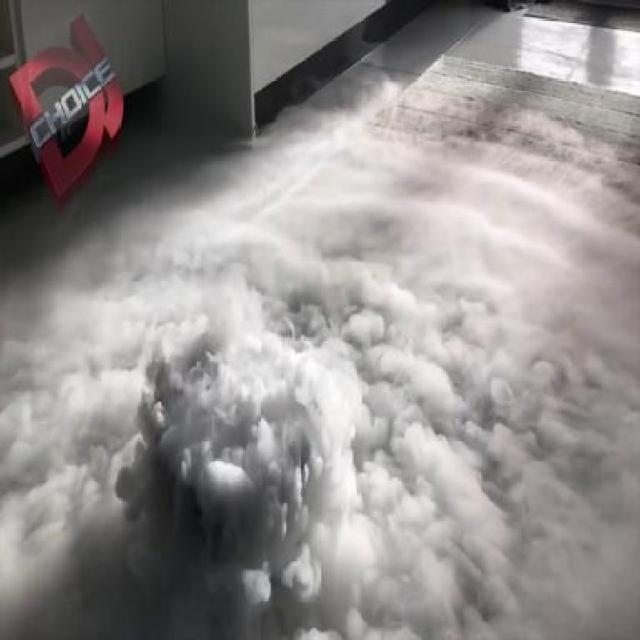smoke: (4, 175, 630, 620)
